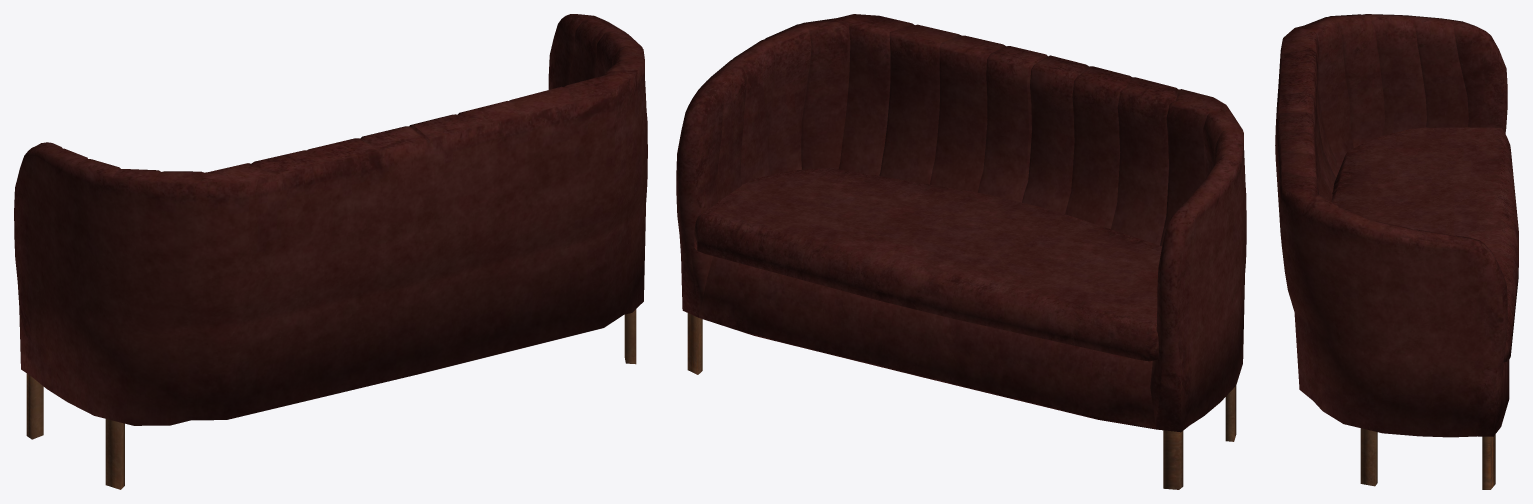
Rendered from sofa_leather.glb.
3 views of the same model, side by side, from view 1: azimuth 30°, elevation 25°; view 2: azimuth 150°, elevation 25°; view 3: azimuth 270°, elevation 25° (orthographic). The views are drawn at different scales.
Parts seen in each view (by area): view 1: sofa; view 2: sofa, pillow.sofa; view 3: sofa, pillow.sofa.
Part boxes in pixels (left/top/right/bottom): sofa: left=14, top=14, right=647, bottom=489; sofa: left=676, top=14, right=1246, bottom=489; pillow.sofa: left=694, top=167, right=1161, bottom=361; sofa: left=1275, top=14, right=1509, bottom=489; pillow.sofa: left=1331, top=127, right=1518, bottom=362.
Bounding box in the file's own units: 2.05 × 1.14 × 0.9381.
Materials: 1 (1 with a texture image).
